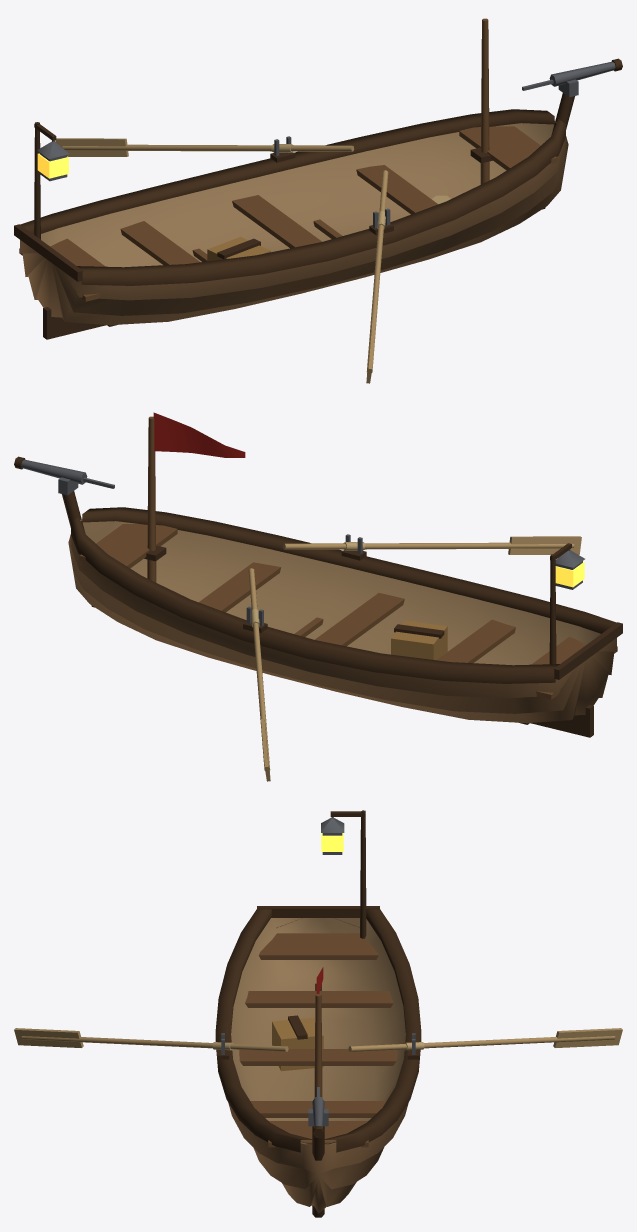
The model's file is rowboat.glb.
3 renders of one model, top to bottom at view 1: azimuth 30°, elevation 25°; view 2: azimuth 150°, elevation 25°; view 3: azimuth 270°, elevation 25°, orthographic. The views are drawn at different scales.
Visible parts, largest first — view 1: Mesh_Interior, Mesh_Hull, Mesh_GunwaleTrimS, Mesh_GunwaleTrimP, Mesh_Thwart1, Mesh_Breasthook, Mesh_OarShaftL, Mesh_Thwart2, Mesh_Thwart0, Mesh_MastStub, Mesh_TransomTrim, Mesh_OarShaftR (+7 smaller); view 2: Mesh_Interior, Mesh_Hull, Mesh_GunwaleTrimP, Mesh_GunwaleTrimS, Mesh_Flag_Pennant, Mesh_Thwart1, Mesh_Breasthook, Mesh_OarShaftR, Mesh_Thwart2, Mesh_Thwart0, Mesh_Crate, Mesh_MastStub (+8 smaller); view 3: Mesh_Interior, Mesh_Hull, Mesh_GunwaleTrimS, Mesh_GunwaleTrimP, Mesh_SternSheets, Mesh_Thwart1, Mesh_Thwart0, Mesh_Thwart2, Mesh_OarShaftR, Mesh_OarShaftL, Mesh_Crate, Mesh_TransomTrim (+5 smaller).
Boxes of the visible parts, x1,y1,x2,y2 form: Mesh_Interior: (41, 121, 556, 267); Mesh_Hull: (19, 136, 568, 325); Mesh_GunwaleTrimS: (77, 119, 565, 285); Mesh_GunwaleTrimP: (20, 109, 554, 234); Mesh_Thwart1: (232, 195, 321, 248); Mesh_Breasthook: (459, 126, 557, 170); Mesh_OarShaftL: (62, 144, 354, 151); Mesh_Thwart2: (356, 165, 438, 214); Mesh_Thwart0: (120, 221, 200, 265); Mesh_MastStub: (480, 18, 489, 184); Mesh_TransomTrim: (14, 224, 83, 281); Mesh_OarShaftR: (366, 170, 388, 372); Mesh_Interior: (80, 519, 600, 665); Mesh_Hull: (68, 534, 617, 723); Mesh_GunwaleTrimP: (71, 517, 559, 683); Mesh_GunwaleTrimS: (82, 507, 616, 633); Mesh_Flag_Pennant: (153, 412, 245, 457); Mesh_Thwart1: (315, 593, 404, 646); Mesh_Breasthook: (79, 524, 177, 568); Mesh_OarShaftR: (282, 542, 574, 549); Mesh_Thwart2: (198, 562, 281, 612); Mesh_Thwart0: (436, 619, 515, 663); Mesh_Crate: (391, 620, 447, 660); Mesh_MastStub: (147, 416, 156, 582); Mesh_Interior: (231, 918, 405, 1144); Mesh_Hull: (228, 918, 408, 1213); Mesh_GunwaleTrimS: (215, 909, 312, 1152); Mesh_GunwaleTrimP: (324, 909, 421, 1152); Mesh_SternSheets: (258, 933, 378, 959); Mesh_Thwart1: (239, 1049, 397, 1065); Mesh_Thwart0: (245, 991, 393, 1007); Mesh_Thwart2: (250, 1101, 386, 1117); Mesh_OarShaftR: (21, 1036, 288, 1051); Mesh_OarShaftL: (348, 1036, 615, 1051); Mesh_Crate: (272, 1017, 323, 1071); Mesh_TransomTrim: (257, 906, 379, 917).
Bounding box in the file's own units: 6.2 × 2.26 × 5.9.
